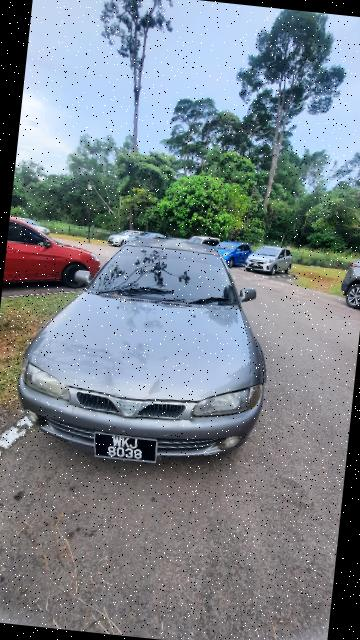License_Plate: (87, 431, 162, 469)
car: (14, 224, 284, 482)
